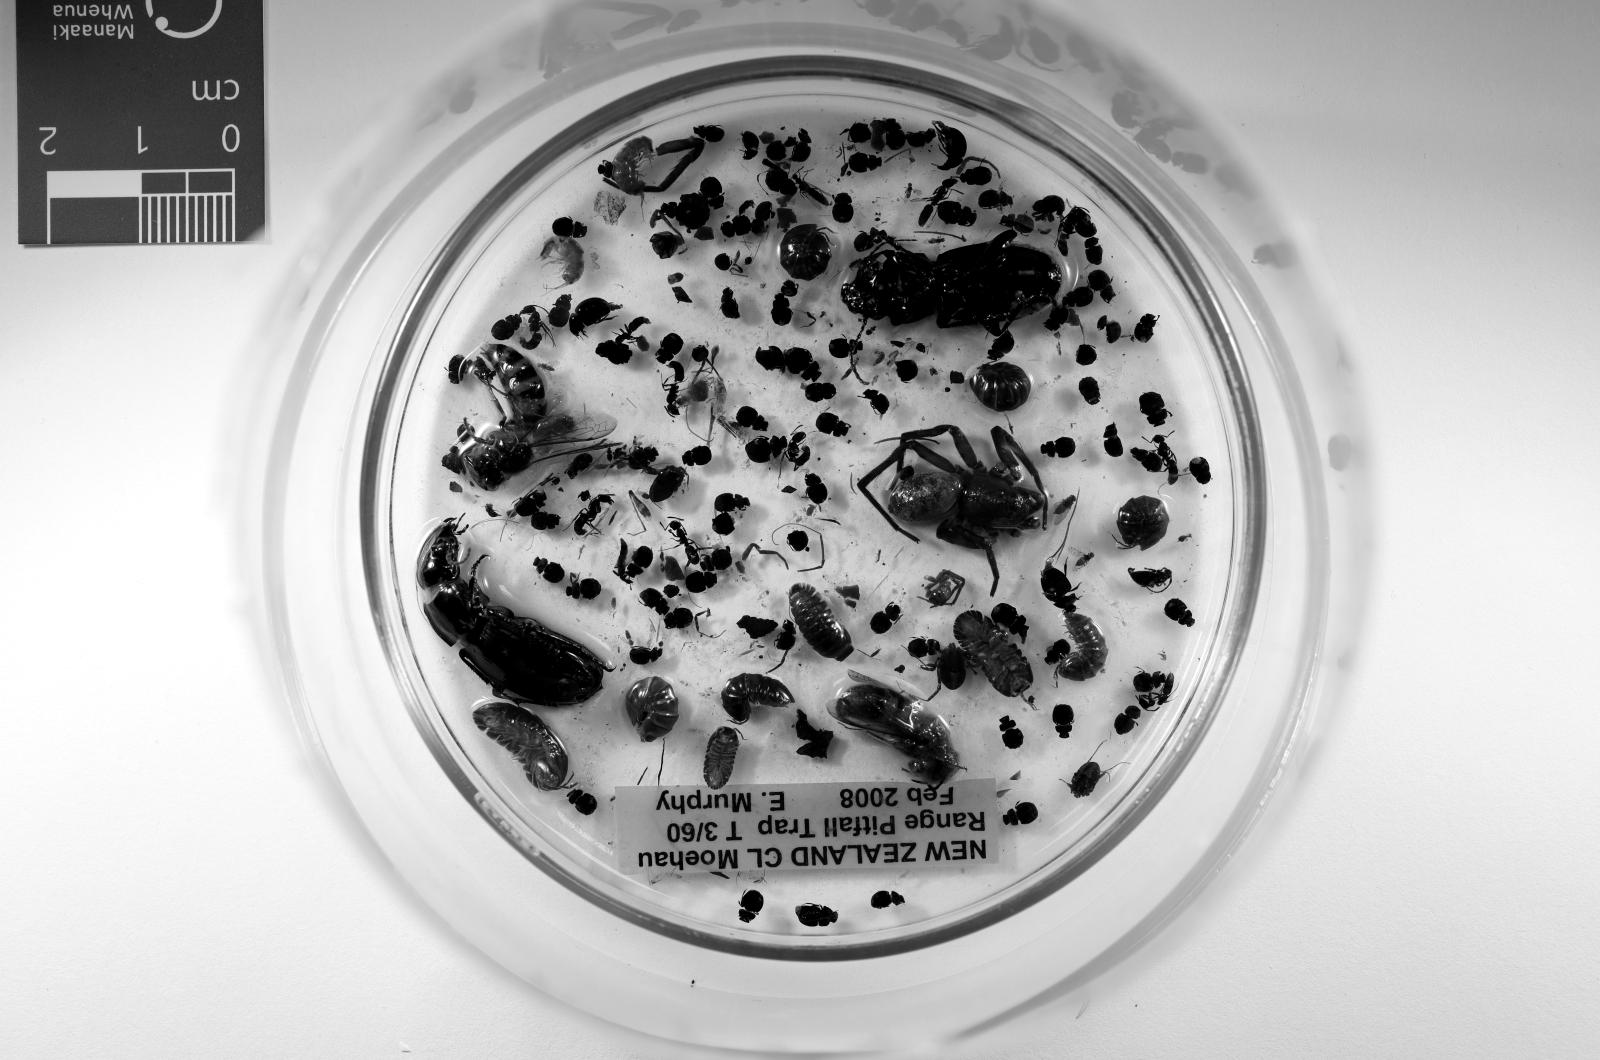amphipoda: (612, 137, 653, 193), (541, 236, 584, 286)
araneae: (859, 425, 1050, 593)
carabidae: (416, 519, 612, 708), (841, 230, 1062, 335)
coleoptera: (569, 298, 622, 335), (1041, 562, 1078, 612), (934, 121, 966, 171), (991, 602, 1028, 643), (744, 435, 788, 463), (788, 348, 822, 382), (1128, 568, 1172, 593), (794, 904, 838, 929), (869, 602, 903, 634), (1141, 391, 1172, 425), (938, 199, 975, 227), (844, 149, 881, 174), (1112, 705, 1141, 736), (534, 556, 566, 584), (1162, 599, 1194, 627), (853, 227, 888, 252), (734, 407, 769, 432), (1003, 801, 1038, 826), (491, 314, 522, 342), (656, 332, 684, 363), (1088, 270, 1116, 301), (547, 295, 572, 329), (1041, 435, 1075, 460), (816, 413, 850, 438), (1031, 196, 1066, 220), (612, 540, 631, 584), (1134, 671, 1166, 696), (988, 332, 1016, 360), (641, 587, 669, 615), (569, 789, 597, 817), (447, 354, 472, 385), (700, 177, 725, 208), (516, 491, 547, 516), (628, 547, 653, 578), (1131, 447, 1162, 472), (553, 217, 588, 239), (1103, 422, 1125, 457), (684, 571, 719, 593), (772, 292, 794, 326), (750, 202, 772, 236), (806, 472, 828, 506), (1000, 714, 1022, 748), (1053, 705, 1075, 739), (700, 547, 731, 571), (738, 891, 762, 922), (959, 165, 994, 186), (906, 637, 941, 658), (862, 388, 888, 416), (566, 578, 600, 599), (806, 382, 838, 404), (722, 214, 750, 239), (566, 453, 594, 478), (712, 494, 750, 512), (831, 193, 853, 224), (681, 444, 712, 466), (628, 447, 659, 469), (775, 621, 797, 652), (1062, 286, 1094, 307), (662, 609, 694, 630), (1188, 457, 1212, 484), (978, 189, 1012, 208), (1000, 214, 1034, 233), (828, 338, 862, 357), (628, 646, 662, 665), (1044, 307, 1069, 332), (1134, 314, 1156, 342), (1078, 376, 1100, 404), (531, 509, 559, 531), (791, 127, 809, 161), (694, 124, 725, 143), (884, 118, 903, 149), (872, 891, 903, 910), (722, 289, 741, 317), (741, 130, 759, 158), (906, 130, 934, 146), (1084, 236, 1100, 264), (619, 624, 636, 646)
diptera: (1069, 544, 1094, 573), (1053, 494, 1078, 522), (900, 183, 924, 205)
formicidae: (919, 177, 956, 227), (572, 494, 612, 537), (669, 519, 700, 565), (519, 304, 550, 348), (662, 360, 684, 416), (1153, 435, 1178, 484), (788, 432, 809, 469), (619, 317, 650, 342)
hymenoptera: (794, 174, 831, 208)
isopoda: (472, 702, 569, 792), (953, 609, 1034, 699), (788, 584, 853, 661), (1056, 612, 1109, 680), (722, 674, 794, 724), (625, 677, 678, 742), (969, 363, 1031, 413), (778, 224, 831, 279), (1116, 497, 1169, 550), (703, 727, 741, 789)
opiliones: (922, 643, 966, 702), (1069, 761, 1106, 798)
vespidae: (444, 342, 616, 491), (828, 671, 966, 789)
